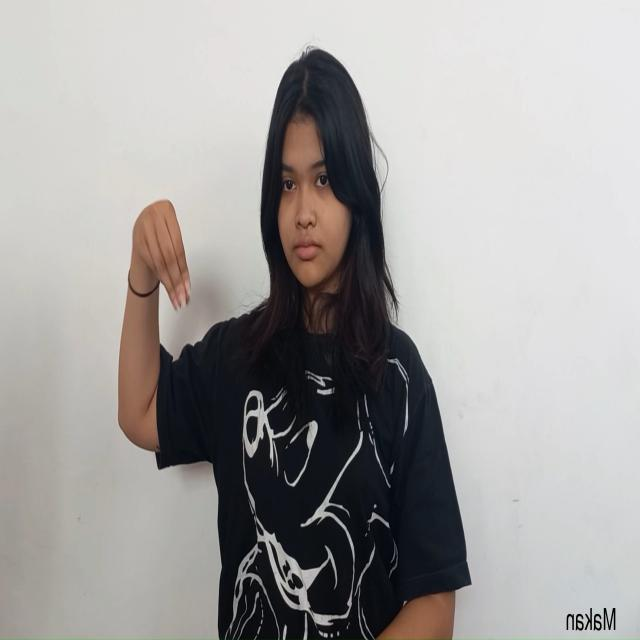Makan -BISINDO-: (118, 198, 192, 346)
